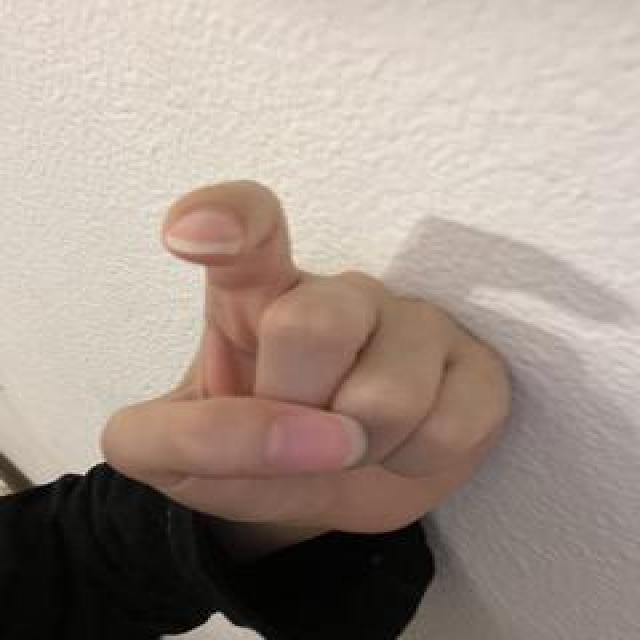X: (94, 173, 518, 535)
